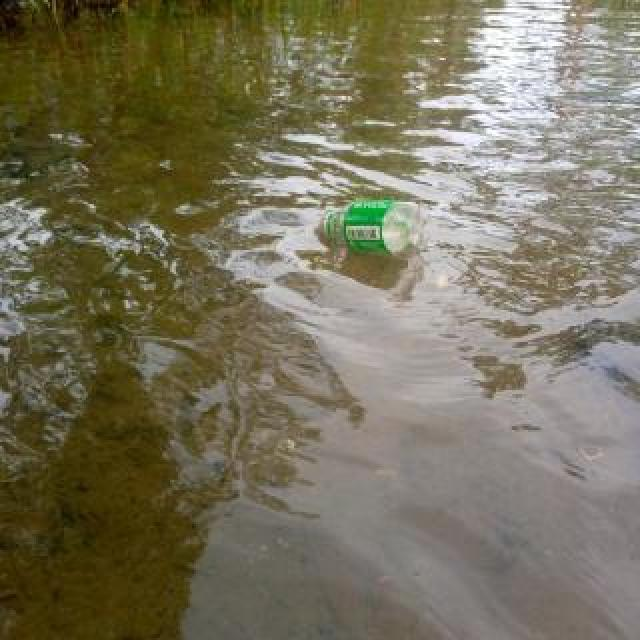bottle: (318, 197, 432, 257)
